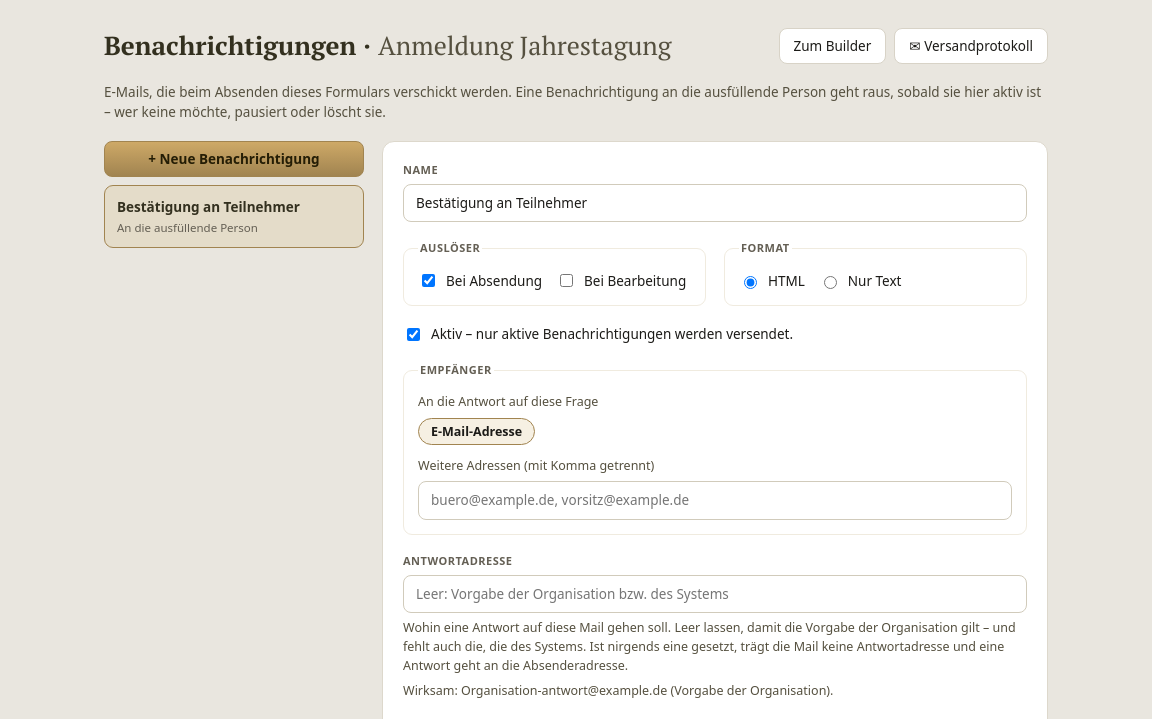
NotificationsView › follows what is being typed, not what was last saved
The width and height of the screenshot is (1152, 719).
Expected: the field labelled "Name" is shown, [403,184,1027,222]
Expected: the text with test id "effective-reply-to" shows "Organisation-antwort@example.de", [461,682,834,698]
Type "kontakt@example.de" into the field labelled "Antwortadresse" at (715, 594), box [403,575,1027,613]
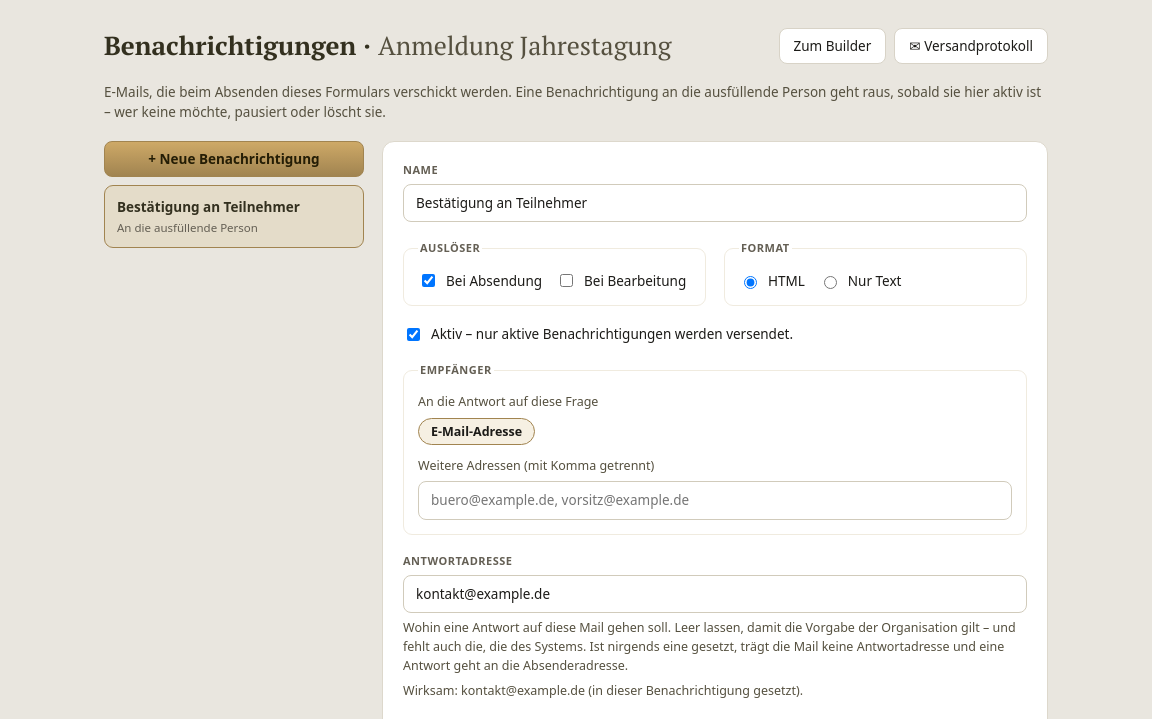
Result: the text with test id "effective-reply-to" shows "kontakt@example.de" at [461,682,803,698]
Result: the text with test id "effective-reply-to" shows "in dieser Benachrichtigung" at [461,682,803,698]
Result: the text with test id "effective-reply-to" no longer shows "Organisation-antwort@example.de"
